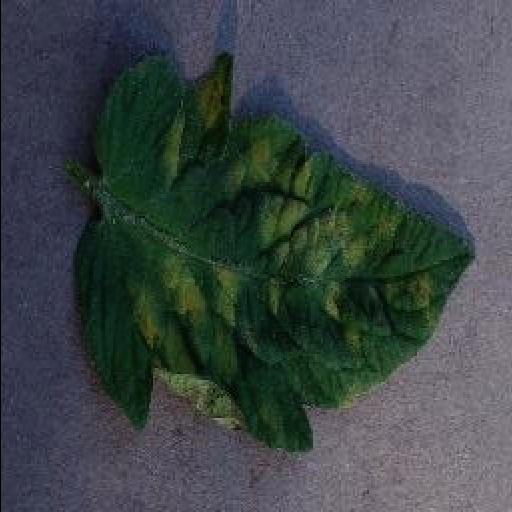disease_tomato: (73, 54, 475, 455)
